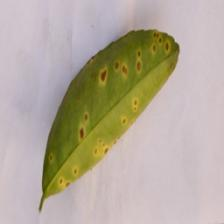canker: (52, 25, 166, 192)
